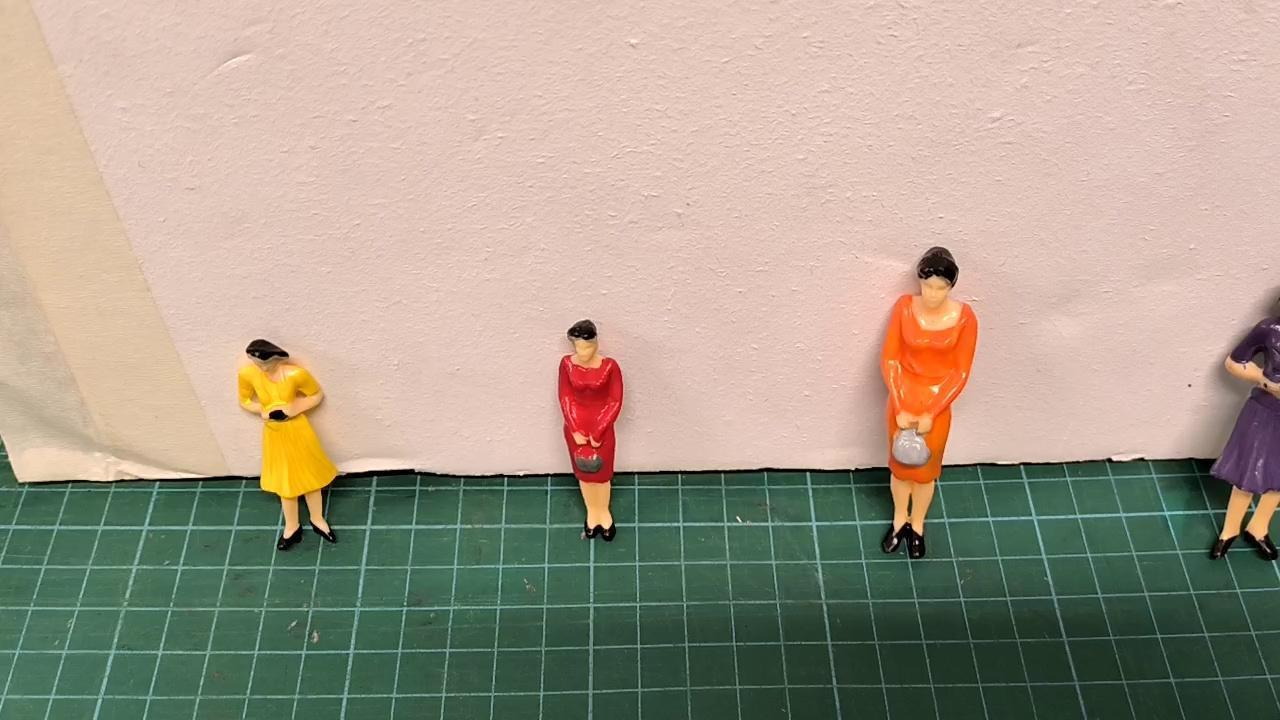human: (876, 244, 981, 559), (236, 335, 345, 551), (1209, 290, 1280, 565), (554, 315, 625, 541)
